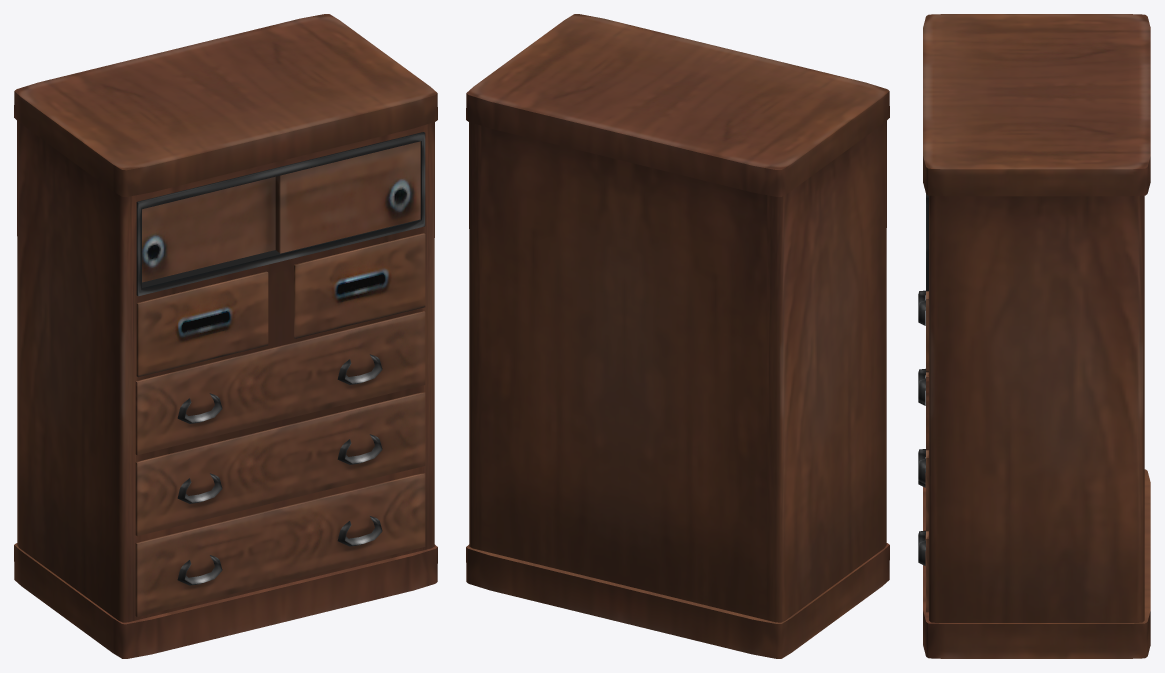
Rendered from JapaneseChest_HD.fbx.
3 renders of one model, left to right at view 1: azimuth 30°, elevation 25°; view 2: azimuth 150°, elevation 25°; view 3: azimuth 270°, elevation 25°, orthographic.
Visible parts, largest first — view 1: JapaneseChest; view 2: JapaneseChest; view 3: JapaneseChest.
Boxes of the visible parts, x1,y1,x2,y2 form: JapaneseChest: (14, 14, 437, 658); JapaneseChest: (466, 14, 889, 658); JapaneseChest: (918, 14, 1150, 658).
Bounding box in the file's own units: 1 × 1.47 × 0.6327.
